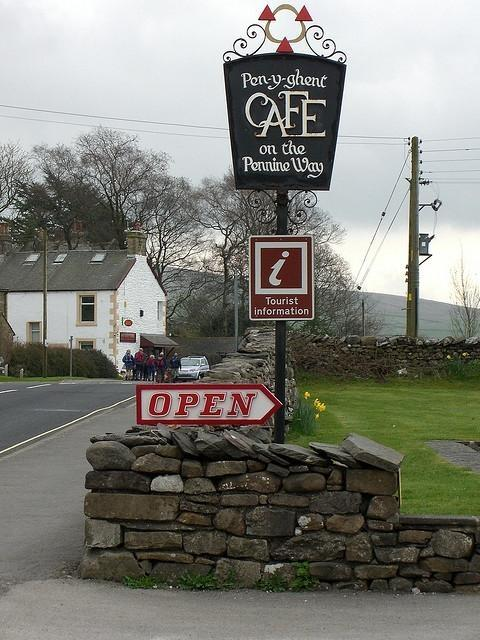car: (178, 355, 209, 383)
